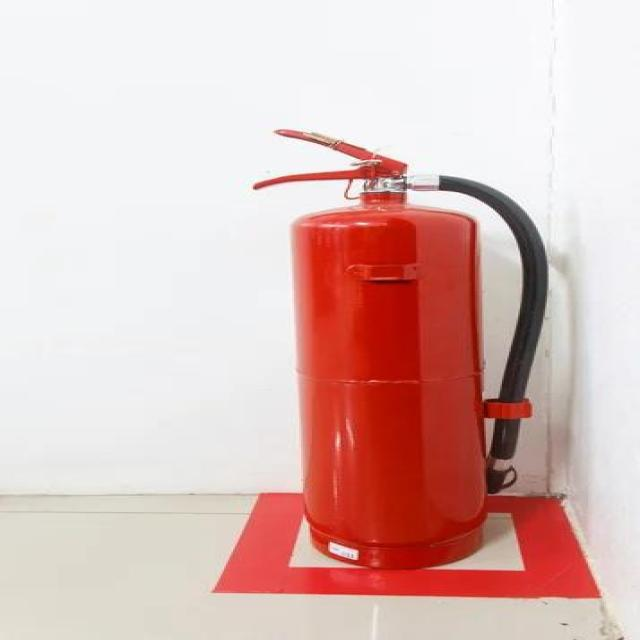fire_extinguisher: (245, 124, 560, 574)
